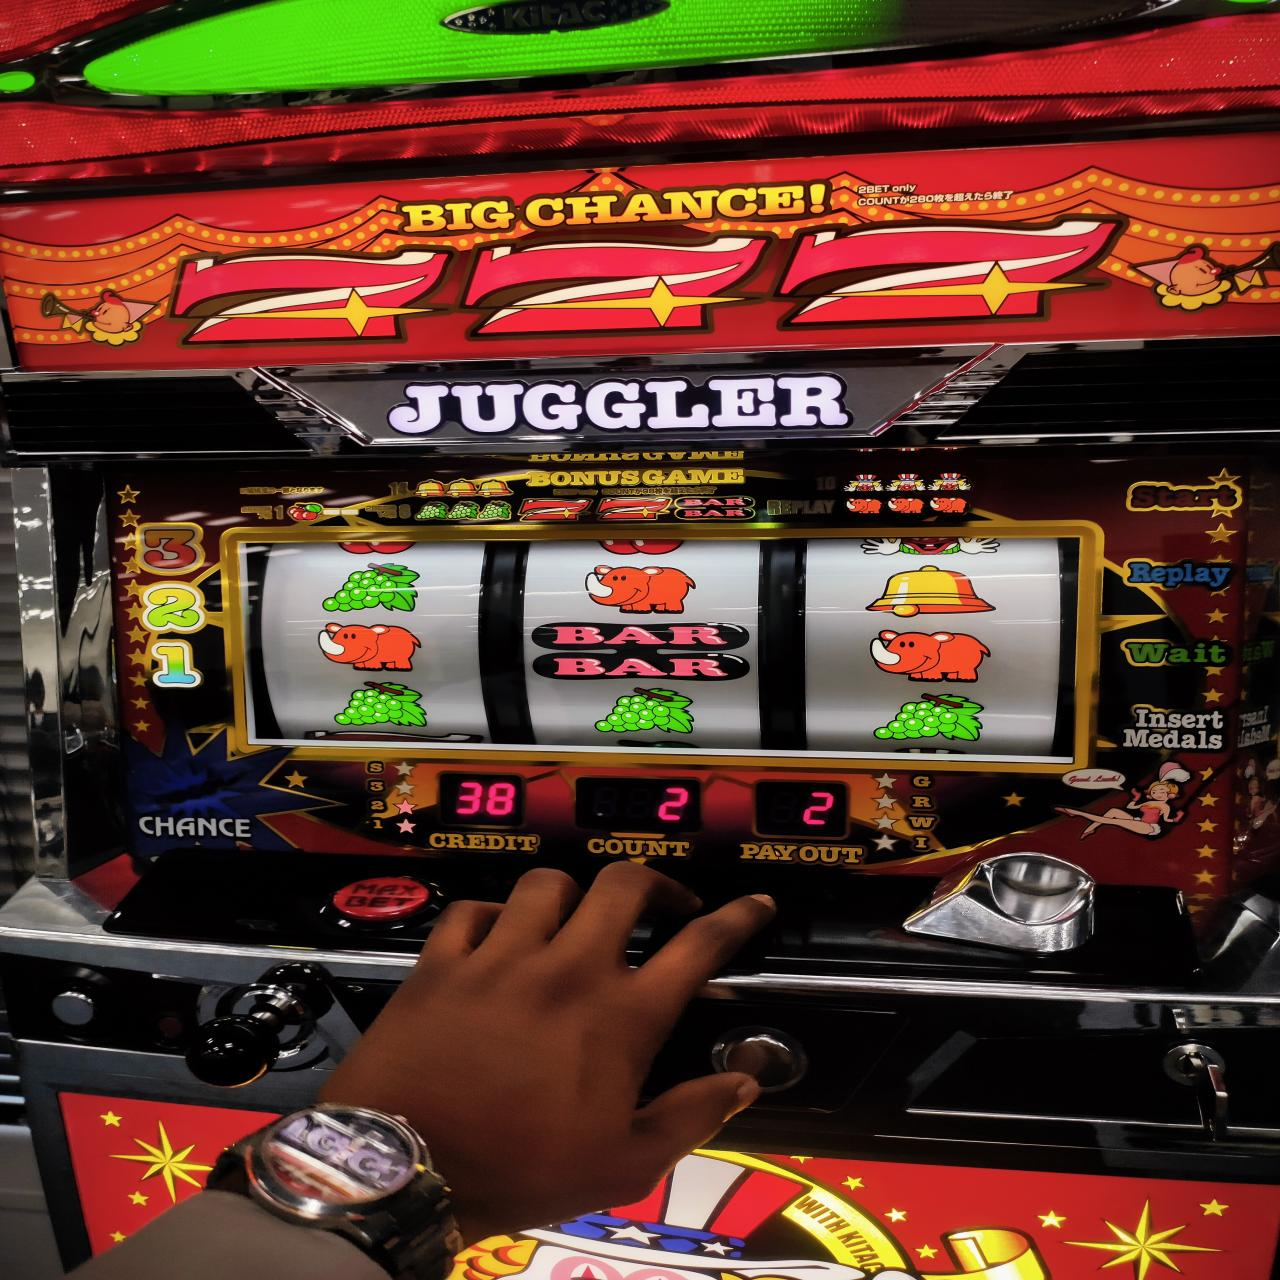8: (867, 626, 990, 685), (588, 565, 699, 614), (320, 621, 421, 670)
Display: (237, 530, 1075, 776)
bar: (533, 622, 754, 686), (865, 563, 1000, 618)
grape: (874, 693, 986, 742), (319, 560, 422, 612), (592, 687, 697, 736), (336, 679, 428, 729)
